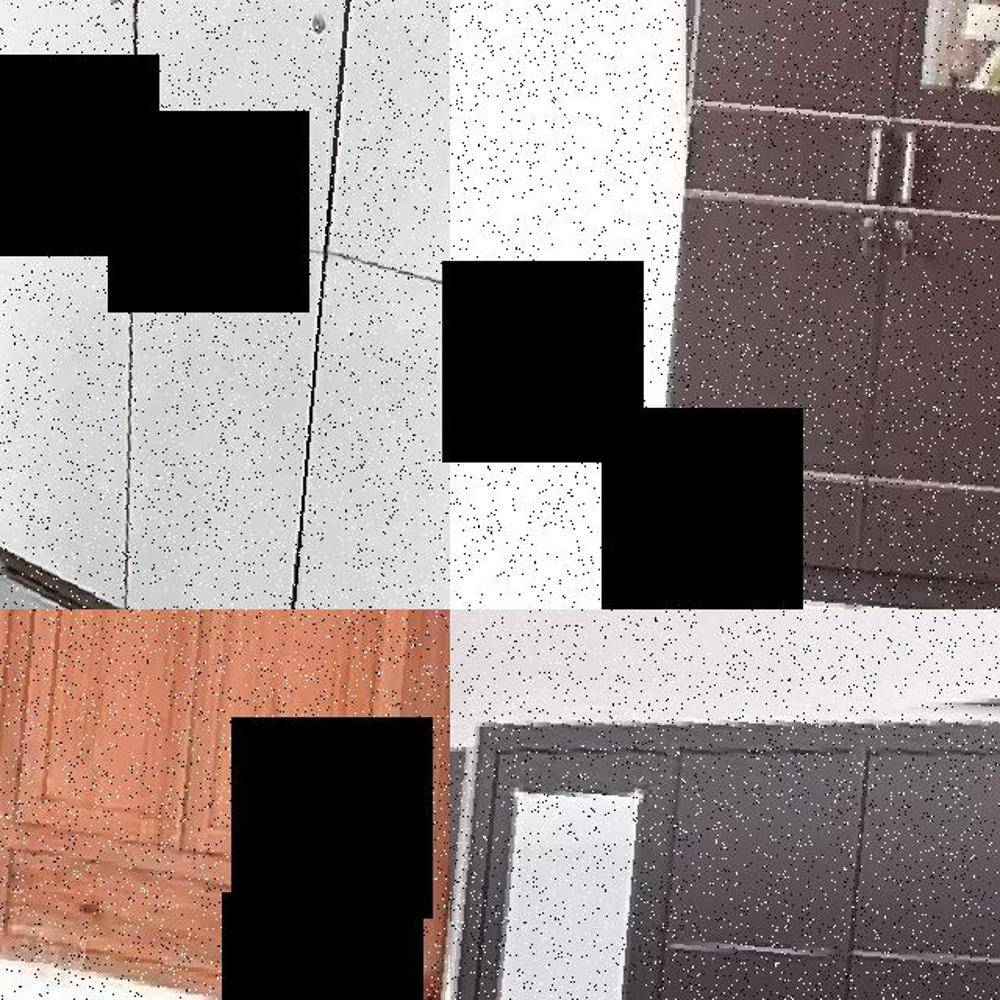cabinet: (661, 0, 1000, 609), (450, 673, 1000, 1000), (0, 609, 450, 1000)
